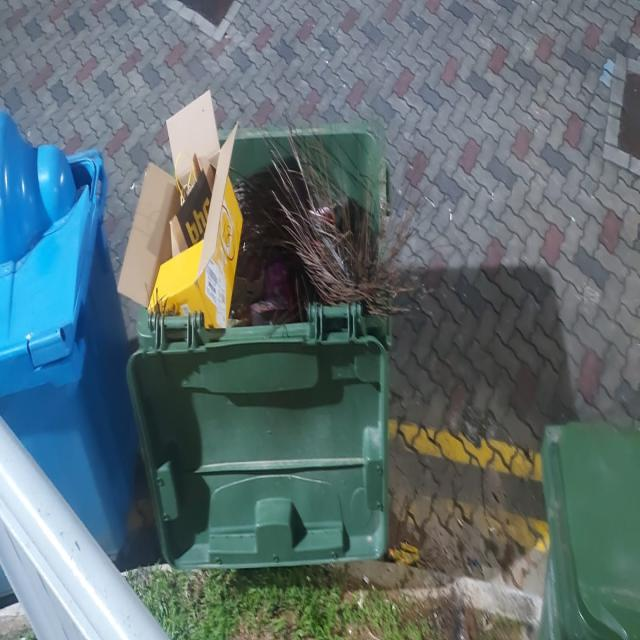bin_empty: (0, 110, 143, 588), (536, 415, 638, 637)
bin_full: (124, 108, 382, 570)
bulk_waste: (116, 160, 180, 310), (164, 90, 222, 194)
normal_waste: (466, 554, 482, 569)
